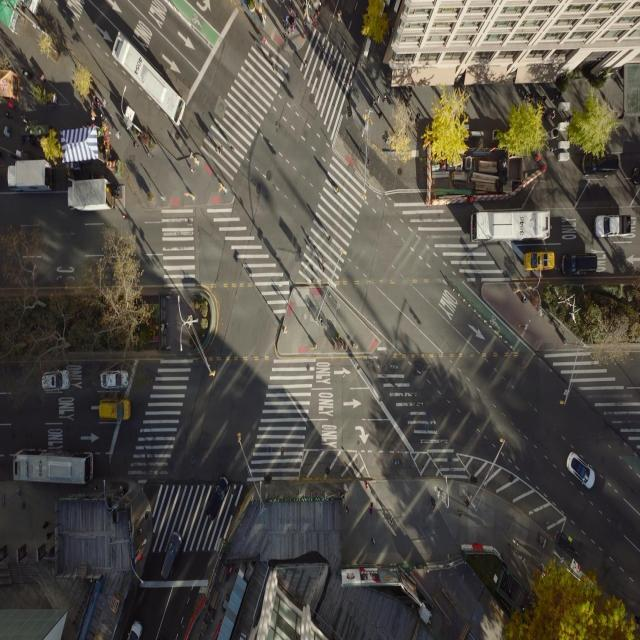Bus: (110, 31, 186, 128), (470, 210, 550, 242)
Car: (12, 448, 94, 483), (161, 530, 182, 581), (567, 452, 595, 489), (206, 476, 229, 520), (560, 253, 597, 275), (99, 396, 131, 420), (523, 251, 556, 273), (41, 369, 70, 391), (100, 371, 130, 389), (127, 619, 143, 640)
Truck: (7, 159, 54, 192), (66, 178, 112, 210), (594, 214, 632, 236)
